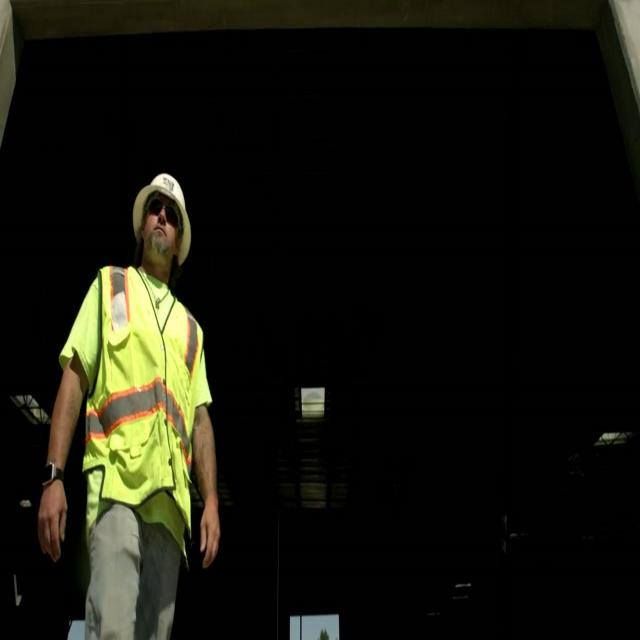Reflective-Jacket: (48, 263, 222, 556)
